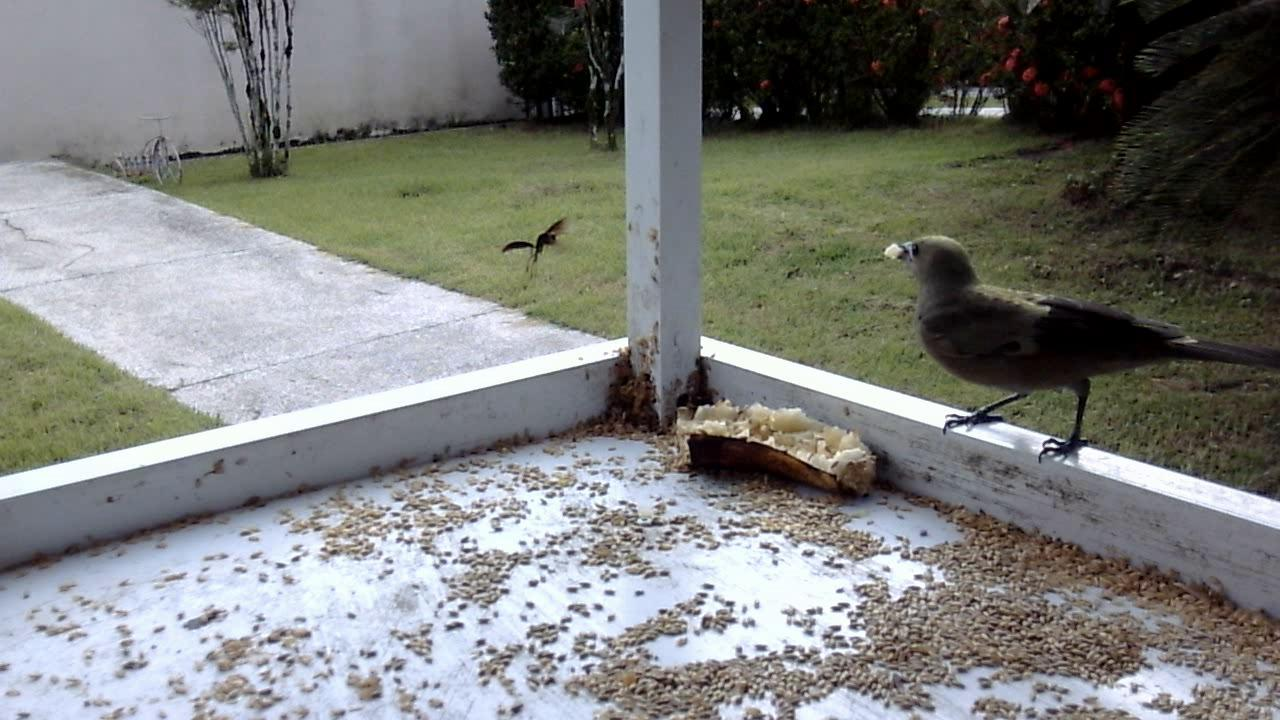sanhaco_do_coqueiro: (873, 225, 1267, 483)
